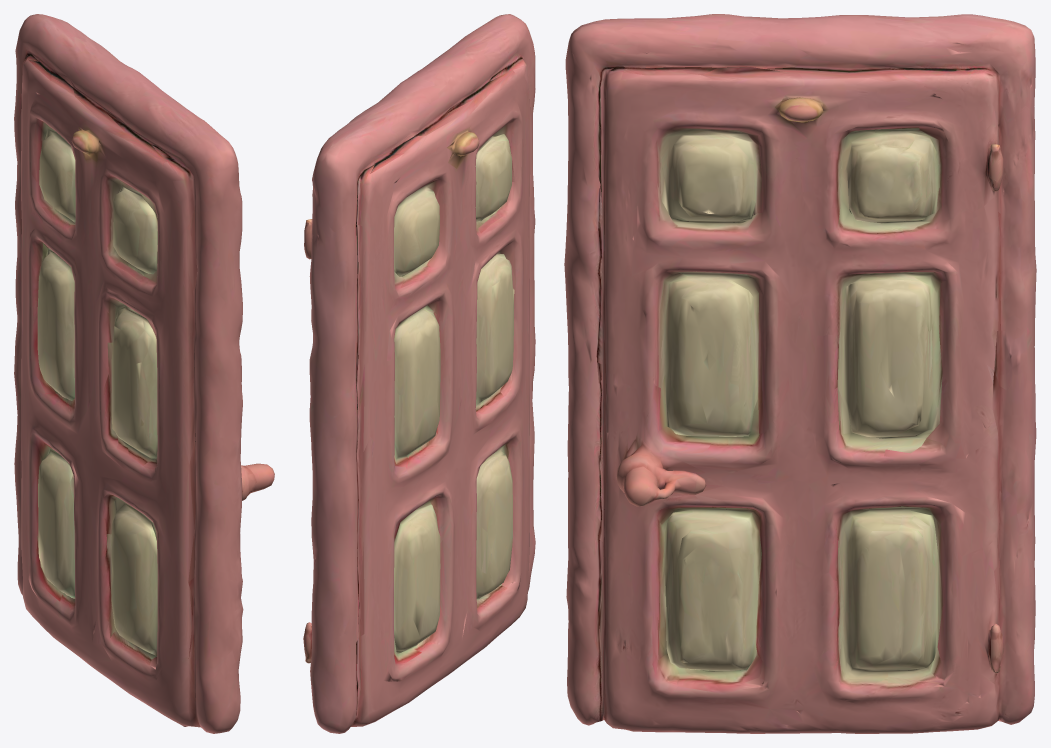
Rendered from held-door.glb.
3 renders of one model, left to right at view 1: azimuth 30°, elevation 25°; view 2: azimuth 150°, elevation 25°; view 3: azimuth 270°, elevation 25°, orthographic. The views are drawn at different scales.
Visible parts, largest first — view 1: tripo_node_d7ab536f-bd09-49f4-8e5d-cc714462a41b; view 2: tripo_node_d7ab536f-bd09-49f4-8e5d-cc714462a41b; view 3: tripo_node_d7ab536f-bd09-49f4-8e5d-cc714462a41b.
Boxes of the visible parts, x1,y1,x2,y2 form: tripo_node_d7ab536f-bd09-49f4-8e5d-cc714462a41b: [14, 14, 274, 733]; tripo_node_d7ab536f-bd09-49f4-8e5d-cc714462a41b: [303, 14, 535, 733]; tripo_node_d7ab536f-bd09-49f4-8e5d-cc714462a41b: [564, 14, 1036, 733].
Size of the model in its own units: 0.2219 by 0.9751 by 0.5938.
1 material, 1 textured.
